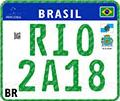Placa_mercosul_carro: (2, 3, 117, 99)
